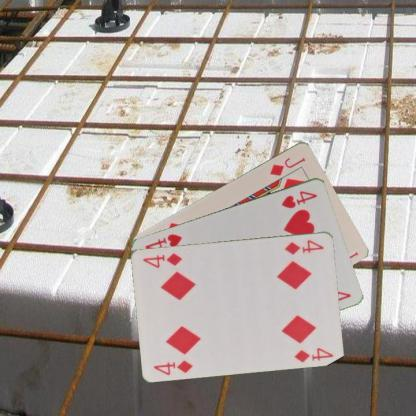4d: (282, 236, 325, 256), (152, 357, 194, 376)
4h: (278, 187, 318, 210)
Jd: (267, 154, 307, 177)
